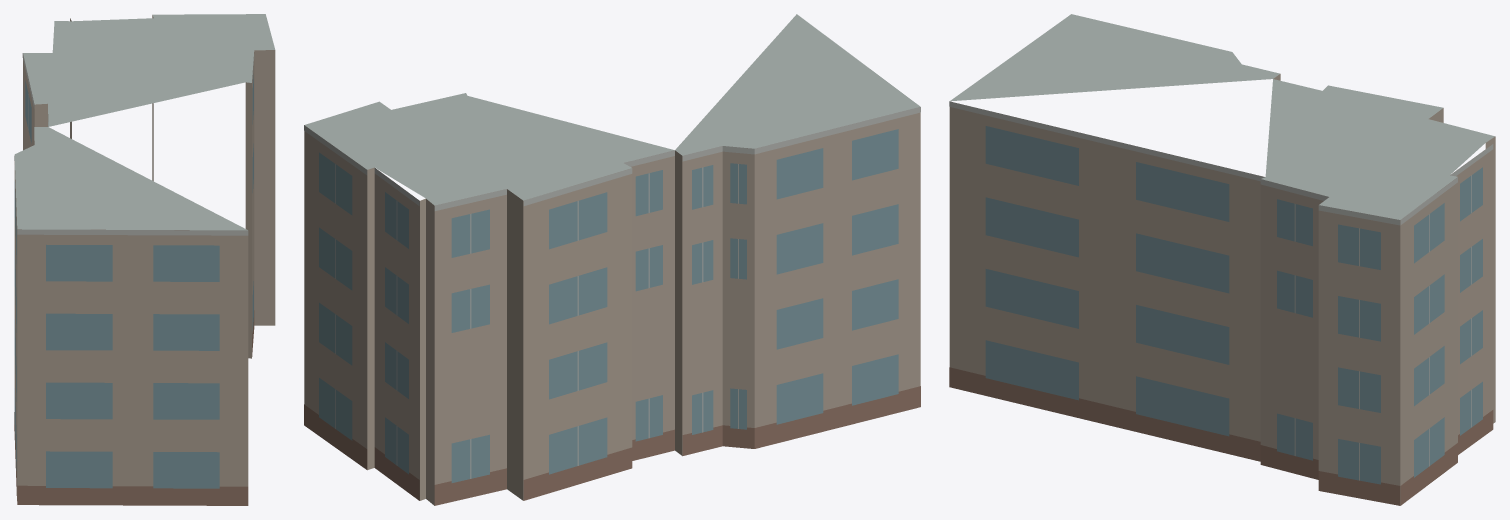
File: survey-upis-32474643.glb
The picture shows the model from 3 angles, left to right: view 1: azimuth 30°, elevation 25°; view 2: azimuth 150°, elevation 25°; view 3: azimuth 270°, elevation 25°; orthographic projection. The views are drawn at different scales.
Visible parts, largest first — view 1: survey-upis-32474643.tmp; view 2: survey-upis-32474643.tmp; view 3: survey-upis-32474643.tmp.
Boxes of the visible parts, x1,y1,x2,y2 form: survey-upis-32474643.tmp: (14, 14, 275, 505); survey-upis-32474643.tmp: (304, 14, 920, 505); survey-upis-32474643.tmp: (949, 14, 1495, 505).
Bounding box in the file's own units: 19.72 × 12.75 × 22.08.
